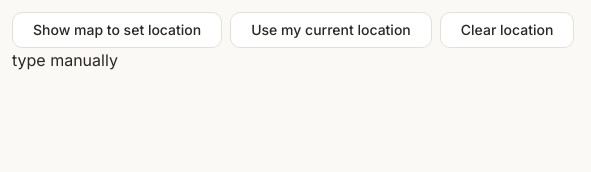
Test: CoordinatePicker — use my current location (ATP-80) › shows a busy, disabled control while waiting for the device
Click the button "Use my current location" at (331, 30), box [230,12,432,48]
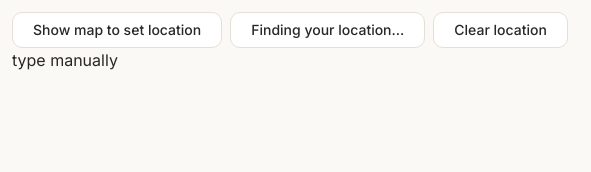
Now the button "Finding your location…" is disabled, box [230,12,425,48]
